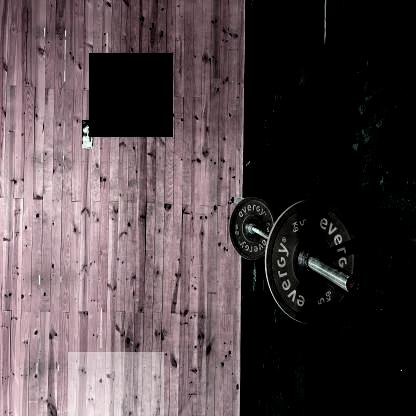barbell: (69, 353, 164, 416)
